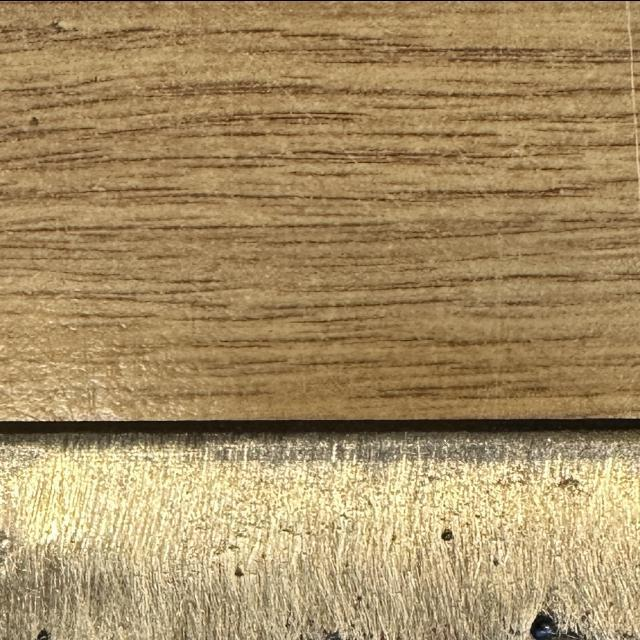Spatters: (530, 611, 558, 640), (322, 630, 342, 640), (440, 528, 453, 540), (37, 629, 50, 640), (235, 566, 243, 576)
